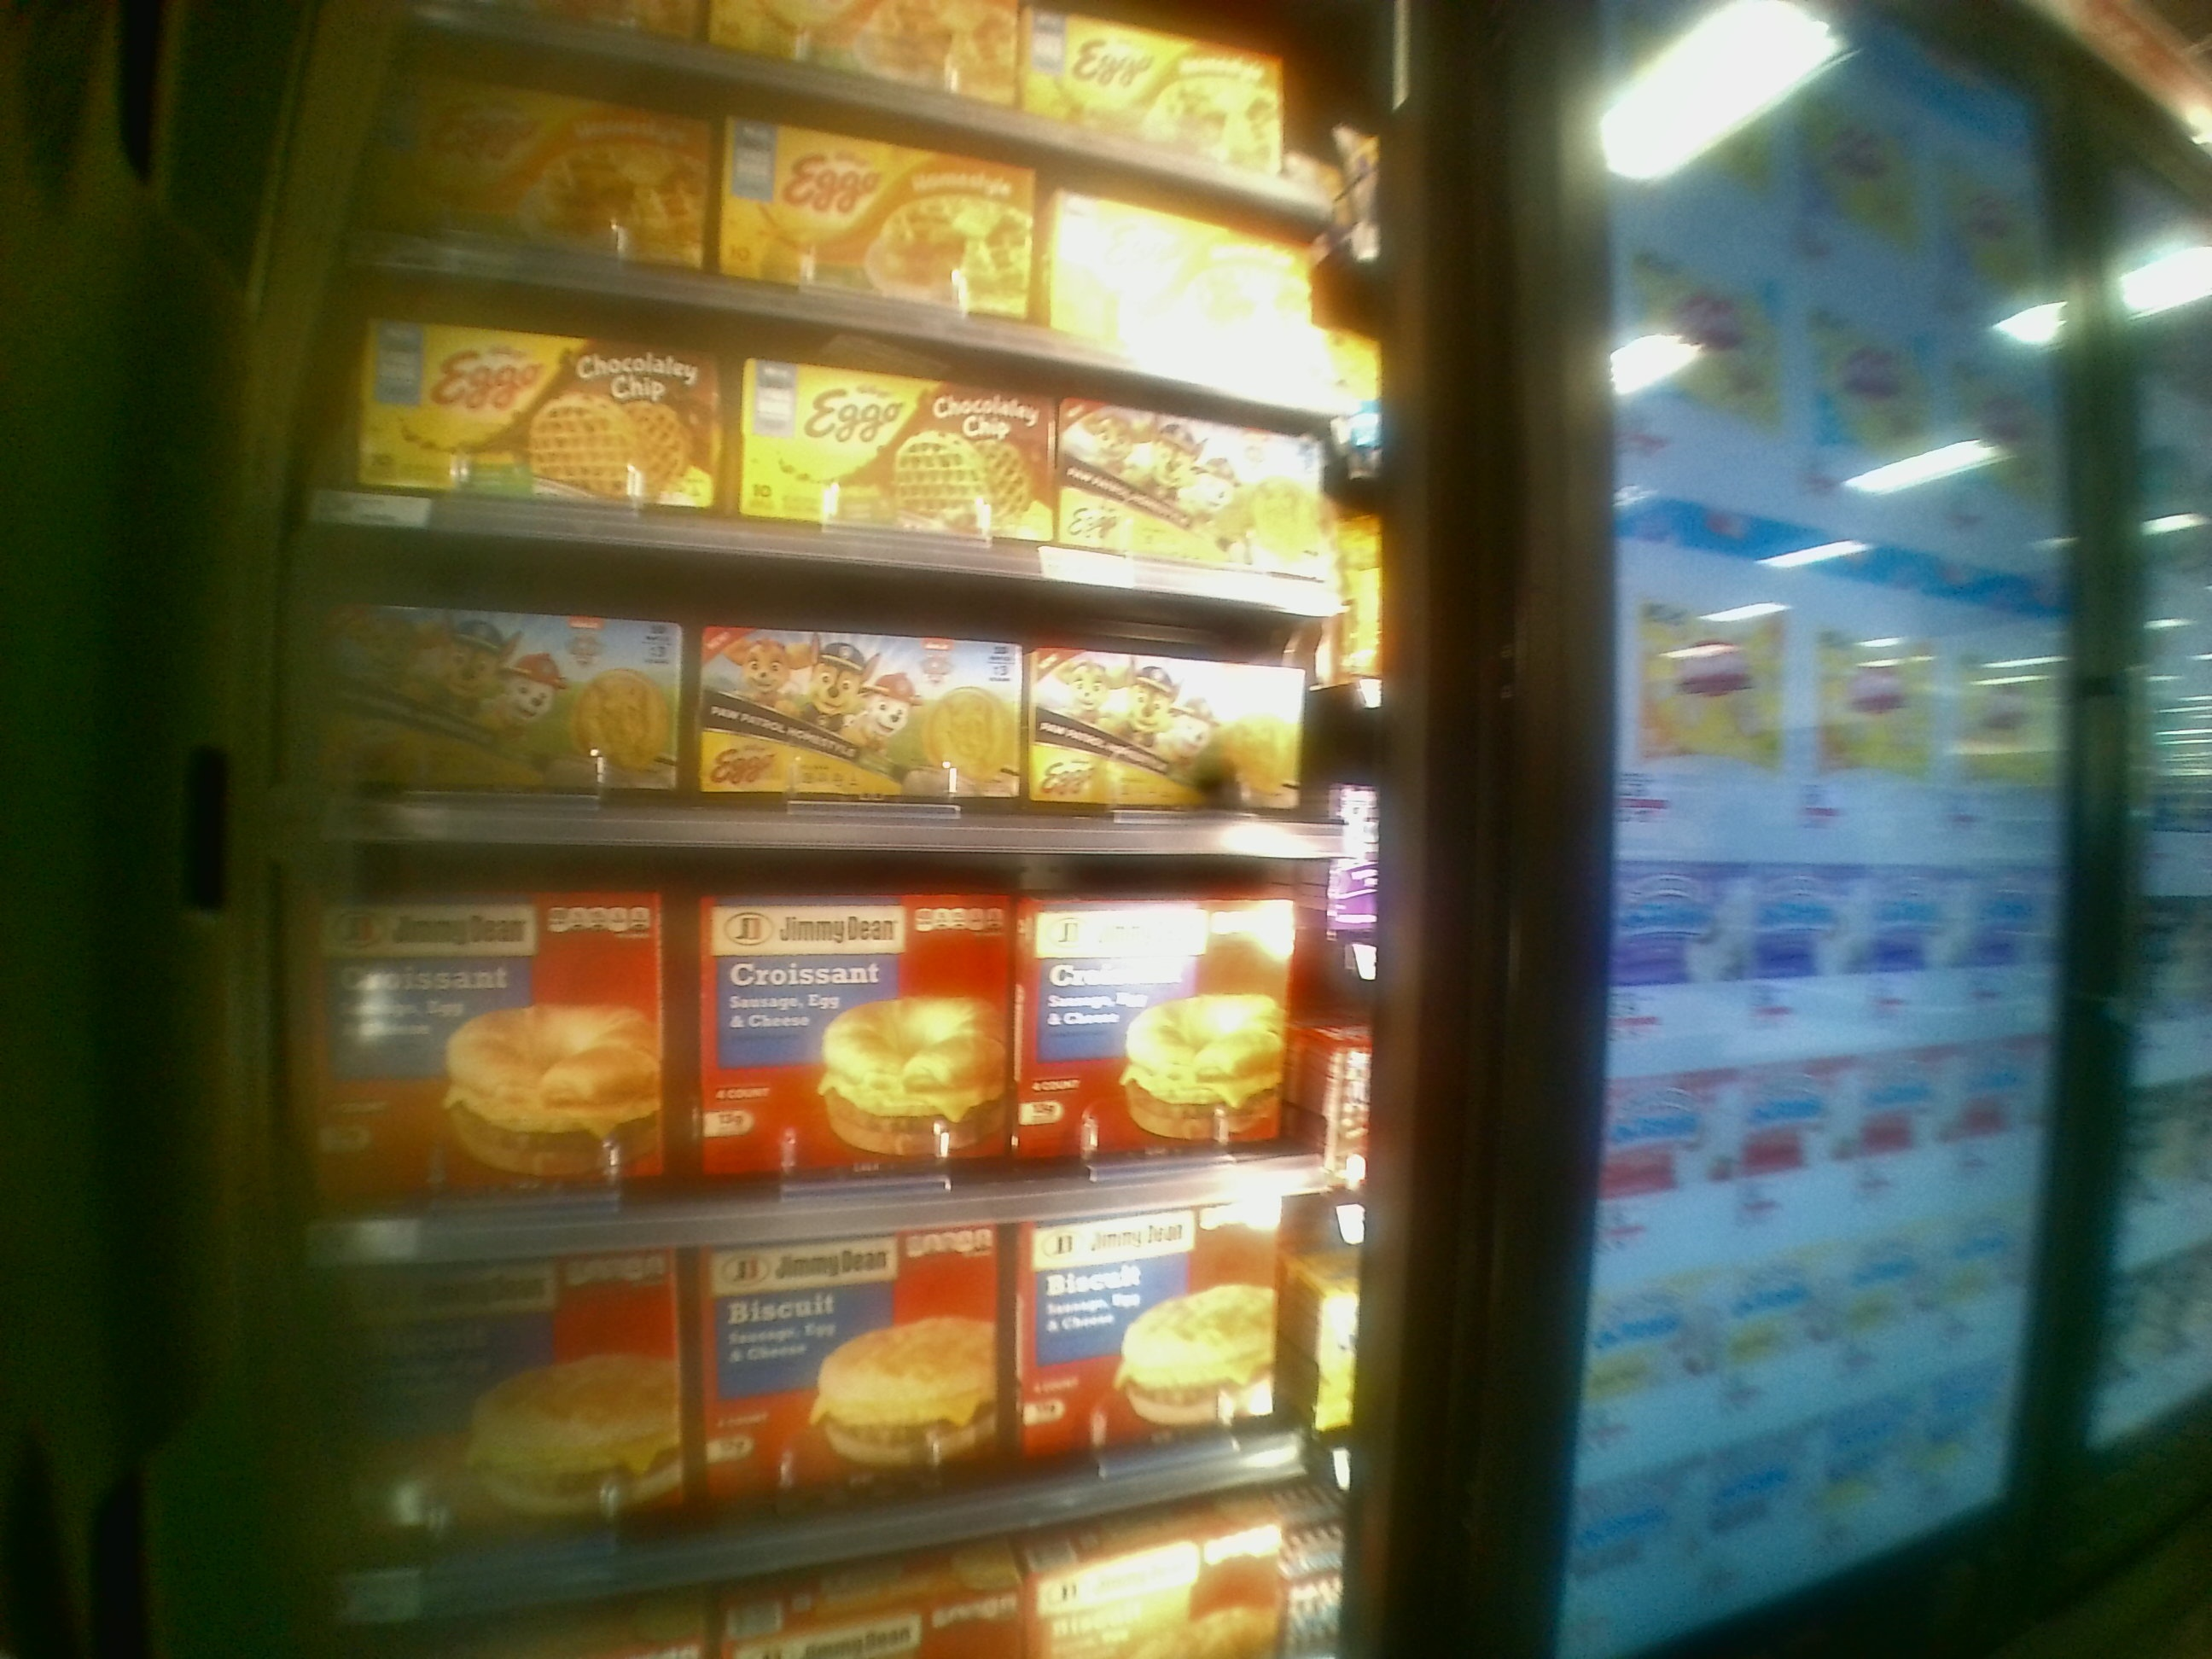shelf: (319, 842, 1360, 1260), (308, 518, 1355, 857)
